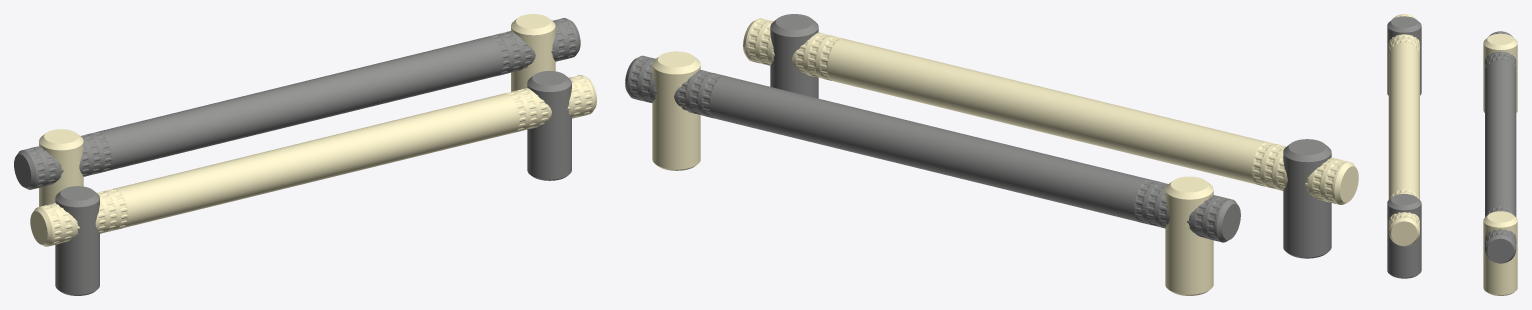
Rendered from Pull_128_20500921.glb.
3 views of the same model, side by side, from view 1: azimuth 30°, elevation 25°; view 2: azimuth 150°, elevation 25°; view 3: azimuth 270°, elevation 25° (orthographic). The views are drawn at different scales.
Parts seen in each view (by area): view 1: Pull_128_20250921_Body (×2), Type_A, Type_B; view 2: Pull_128_20250921_Body (×2), Type_B, Type_A; view 3: Pull_128_20250921_Body (×2), Type_A, Type_B.
Part boxes in pixels (left/top/right/bottom): Pull_128_20250921_Body (×2): left=14, top=18, right=596, bottom=246; Type_A: left=55, top=71, right=571, bottom=295; Type_B: left=39, top=14, right=555, bottom=206; Pull_128_20250921_Body (×2): left=625, top=18, right=1358, bottom=242; Type_B: left=652, top=51, right=1213, bottom=295; Type_A: left=770, top=14, right=1331, bottom=258; Pull_128_20250921_Body (×2): left=1388, top=14, right=1516, bottom=263; Type_A: left=1387, top=16, right=1421, bottom=278; Type_B: left=1483, top=33, right=1517, bottom=295.
Size of the model in its own units: 162 by 24.42 by 39.78.
